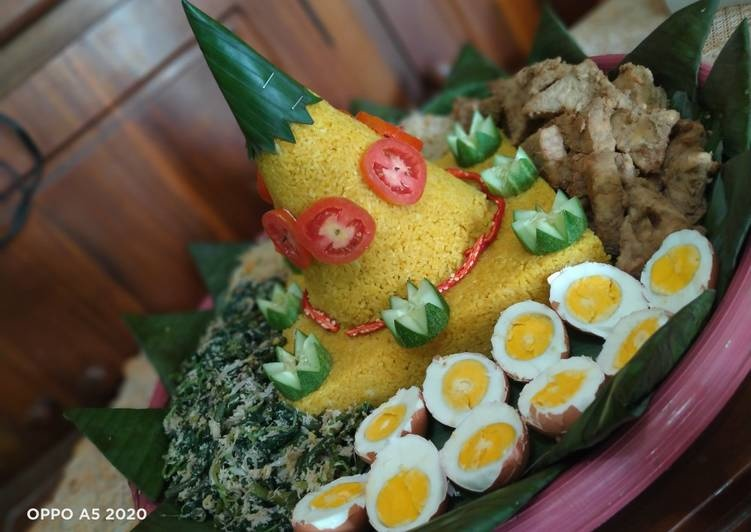tumpeng: (159, 2, 539, 337)
